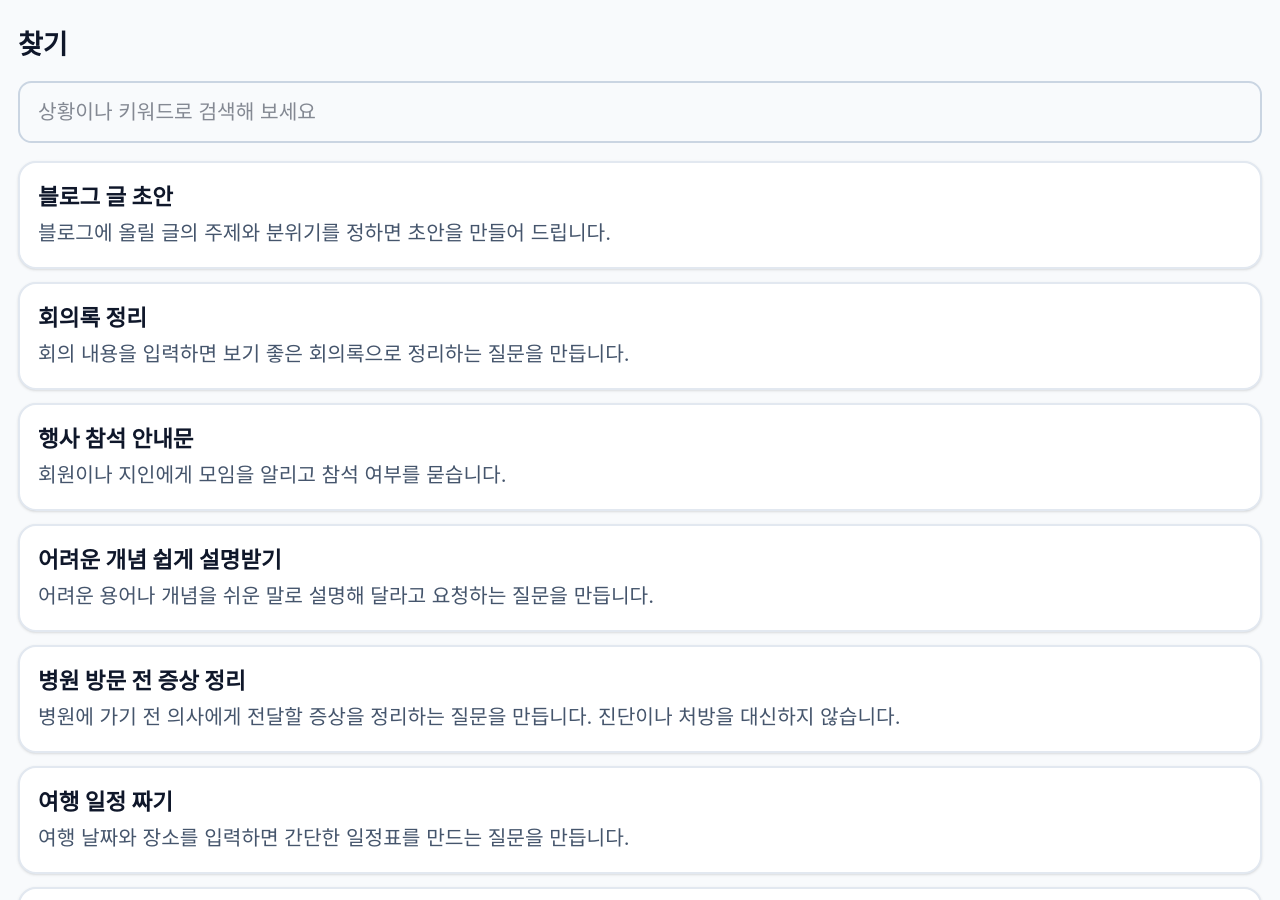
Scenario: FindPage › 검색어를 입력하면 관련 없는 템플릿은 사라진다
The width and height of the screenshot is (1280, 900).
Type "회의록" into the search field with placeholder "상황이나 키워드로 검색해 보세요".
click(640, 112); type("회의록")  # box [18, 81, 1262, 144]
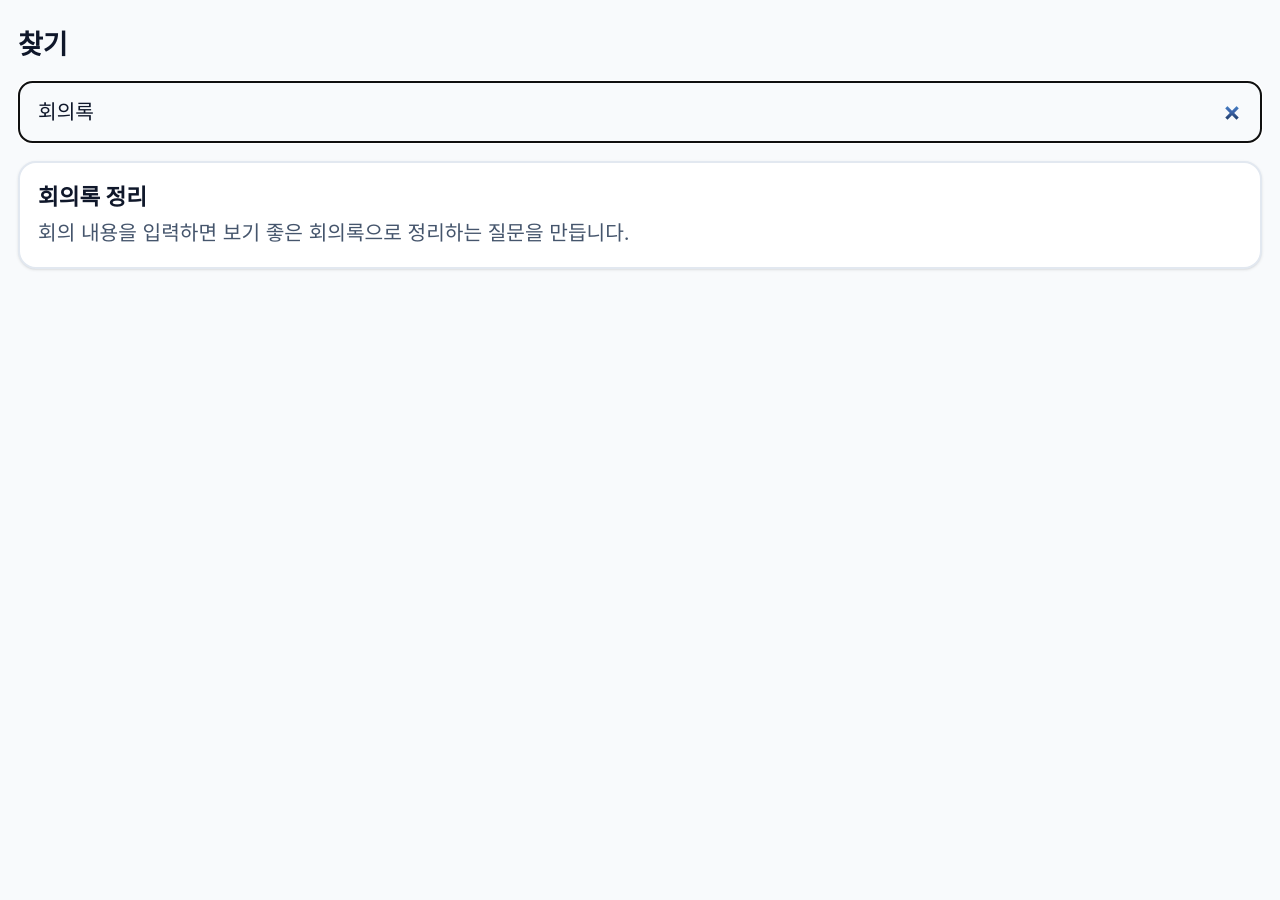
Expected: the heading "회의록 정리" is shown, [38, 184, 147, 210]
Now the link "여행 일정 짜기" is gone
